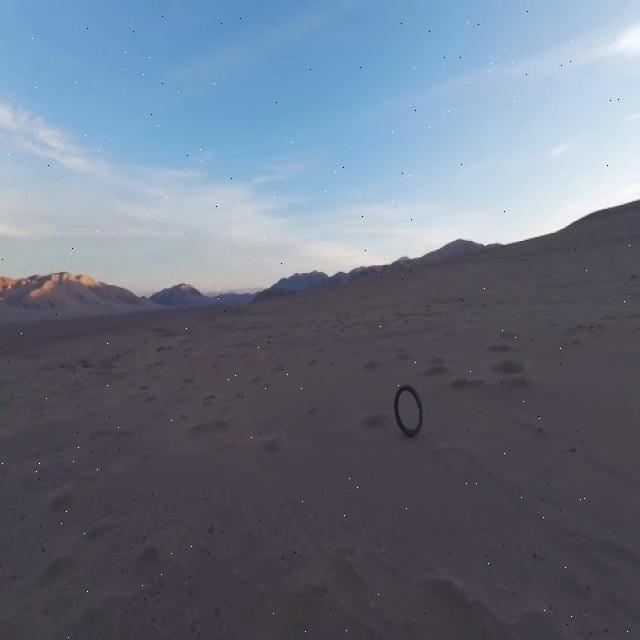Tire: (394, 386, 422, 436)
